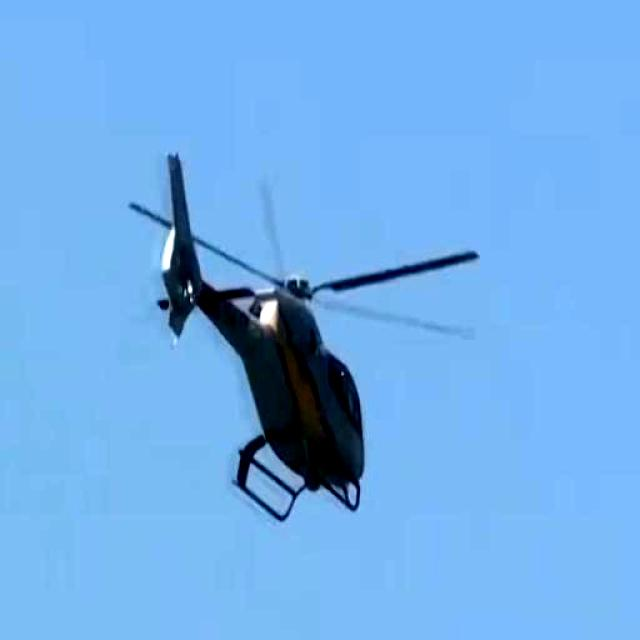drone: (142, 119, 434, 519)
